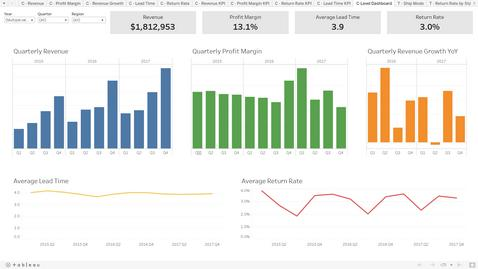

Layout of this report page (visuals, bound fields, positions):
{"tool":"tableau","page":{"name":"Dashboard: C-Level","canvas":[1000,1000],"units":"permille","ordinal":0},"visuals":[{"type":"filter","title":"C - Revenue","param":"[federated.1orbwra01wn7ij10qd8r31ohvcu0].[yr:Order Date:ok]","box":[4.8,9.3,65.2,101]},{"type":"filter","title":"C - Revenue","param":"[federated.1orbwra01wn7ij10qd8r31ohvcu0].[qr:Order Date:ok]","box":[70,9.3,65.8,101]},{"type":"filter","title":"C - Revenue","param":"[federated.1orbwra01wn7ij10qd8r31ohvcu0].[none:Region:nk]","box":[135.8,9.3,71.2,101]},{"type":"worksheet","title":"C - Revenue KPI","mark":"Automatic","box":[207,9.3,197,101]},{"type":"worksheet","title":"C - Profit Margin KPI","mark":"Automatic","box":[404.1,9.3,197,101]},{"type":"worksheet","title":"C - Lead Time KPI","mark":"Automatic","box":[601.1,9.3,197,101]},{"type":"worksheet","title":"C - Return Rate KPI","mark":"Automatic","box":[798.1,9.3,197,101]},{"type":"worksheet","title":"C - Revenue","mark":"Bar","rows":["Sales"],"cols":["Order Date","Order Date"],"box":[4.8,110.3,347,512.2]},{"type":"worksheet","title":"C - Profit Margin","mark":"Bar","rows":["Calculation_785596721560096768"],"cols":["Order Date","Order Date"],"box":[351.8,110.3,339.8,512.2]},{"type":"worksheet","title":"C - Revenue Growth","mark":"Bar","rows":["Sales"],"cols":["Order Date","Order Date"],"box":[691.6,110.3,303.6,512.2]},{"type":"worksheet","title":"C - Lead Time","mark":"Automatic","rows":["Calculation_785596721585942531"],"cols":["Order Date"],"box":[4.8,622.5,477.4,368.2]},{"type":"worksheet","title":"C - Return Rate","mark":"Automatic","rows":["Calculation_785596721584160769"],"cols":["Order Date"],"box":[482.2,622.5,513,368.2]}]}

Visuals, with their boxes on the dashboard's canvas, which has no fixed pixel size, in thousandths of its width and height (x1, y1, x2, y2). These are canvas units, not pixel positions in the 478x269 screenshot, which may show the page scaled, cropped or inside an application window:
"C - Revenue" filter: box=[5, 9, 70, 110]
"C - Revenue" filter: box=[70, 9, 136, 110]
"C - Revenue" filter: box=[136, 9, 207, 110]
"C - Revenue KPI" worksheet: box=[207, 9, 404, 110]
"C - Profit Margin KPI" worksheet: box=[404, 9, 601, 110]
"C - Lead Time KPI" worksheet: box=[601, 9, 798, 110]
"C - Return Rate KPI" worksheet: box=[798, 9, 995, 110]
"C - Revenue" worksheet (Bar marks): box=[5, 110, 352, 622]
"C - Profit Margin" worksheet (Bar marks): box=[352, 110, 692, 622]
"C - Revenue Growth" worksheet (Bar marks): box=[692, 110, 995, 622]
"C - Lead Time" worksheet: box=[5, 622, 482, 991]
"C - Return Rate" worksheet: box=[482, 622, 995, 991]
